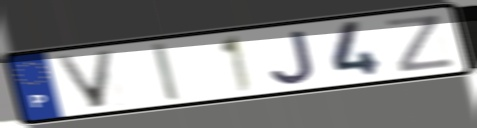1: (218, 31, 255, 95)
4: (329, 19, 390, 82)
I: (149, 40, 183, 104)
J: (268, 28, 319, 86)
V: (51, 48, 119, 111)
Z: (382, 12, 460, 75)
